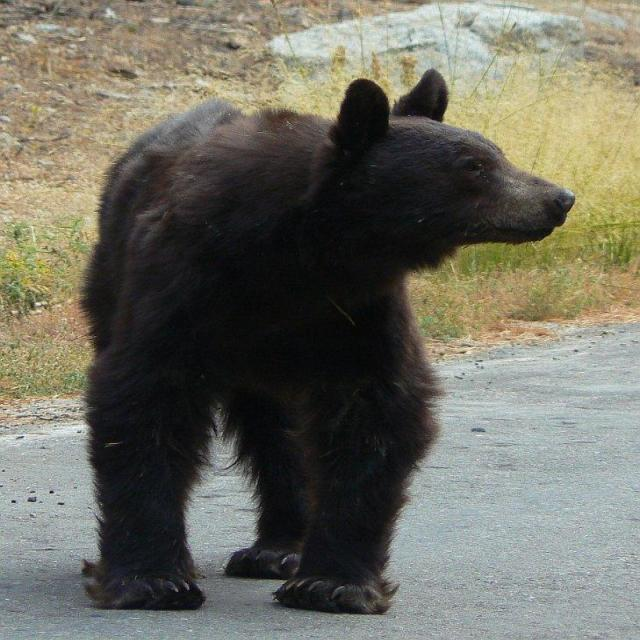Bear: (78, 70, 577, 617)
